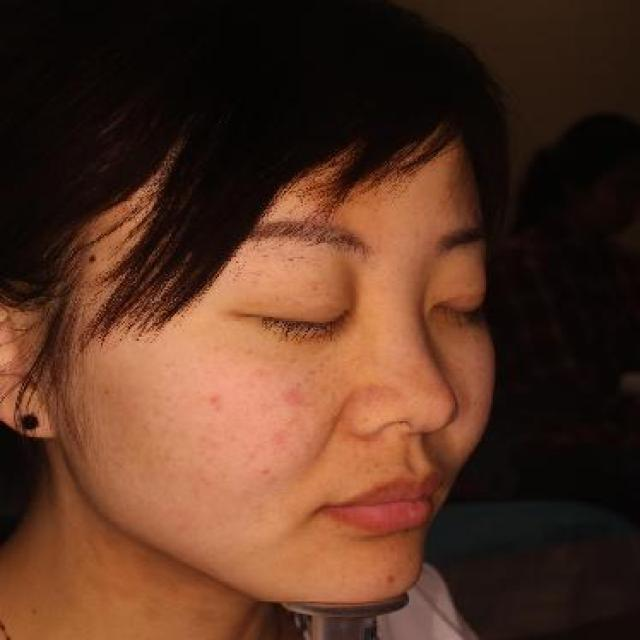dark spot: (276, 380, 313, 411), (380, 568, 404, 586), (204, 388, 226, 403), (255, 464, 275, 478)
